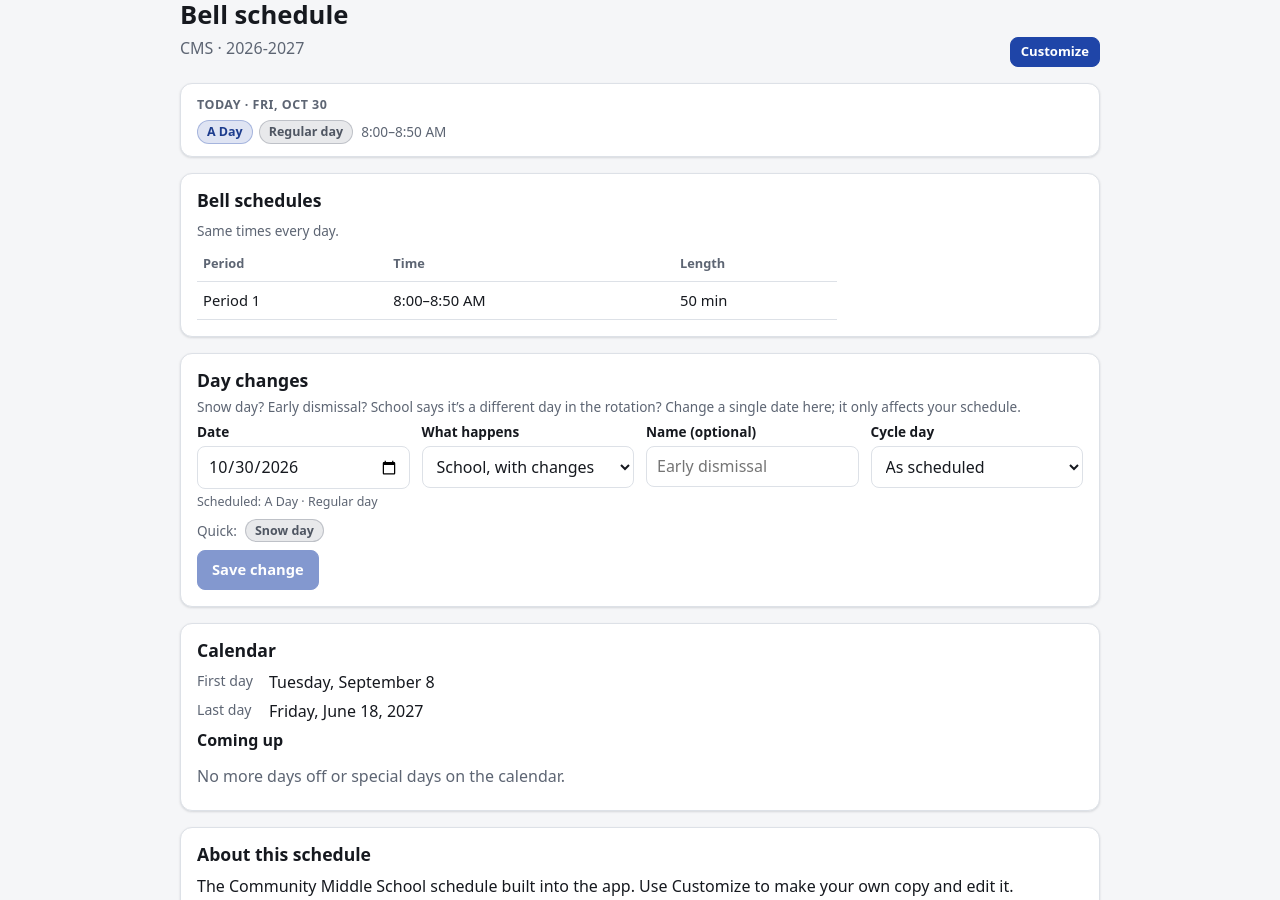
Test: SchedulePage › asks before replacing a custom schedule made for another school
Later steps or results of the test are not shown.
Click the button "Customize": (1055, 52) [1010,37,1100,67]
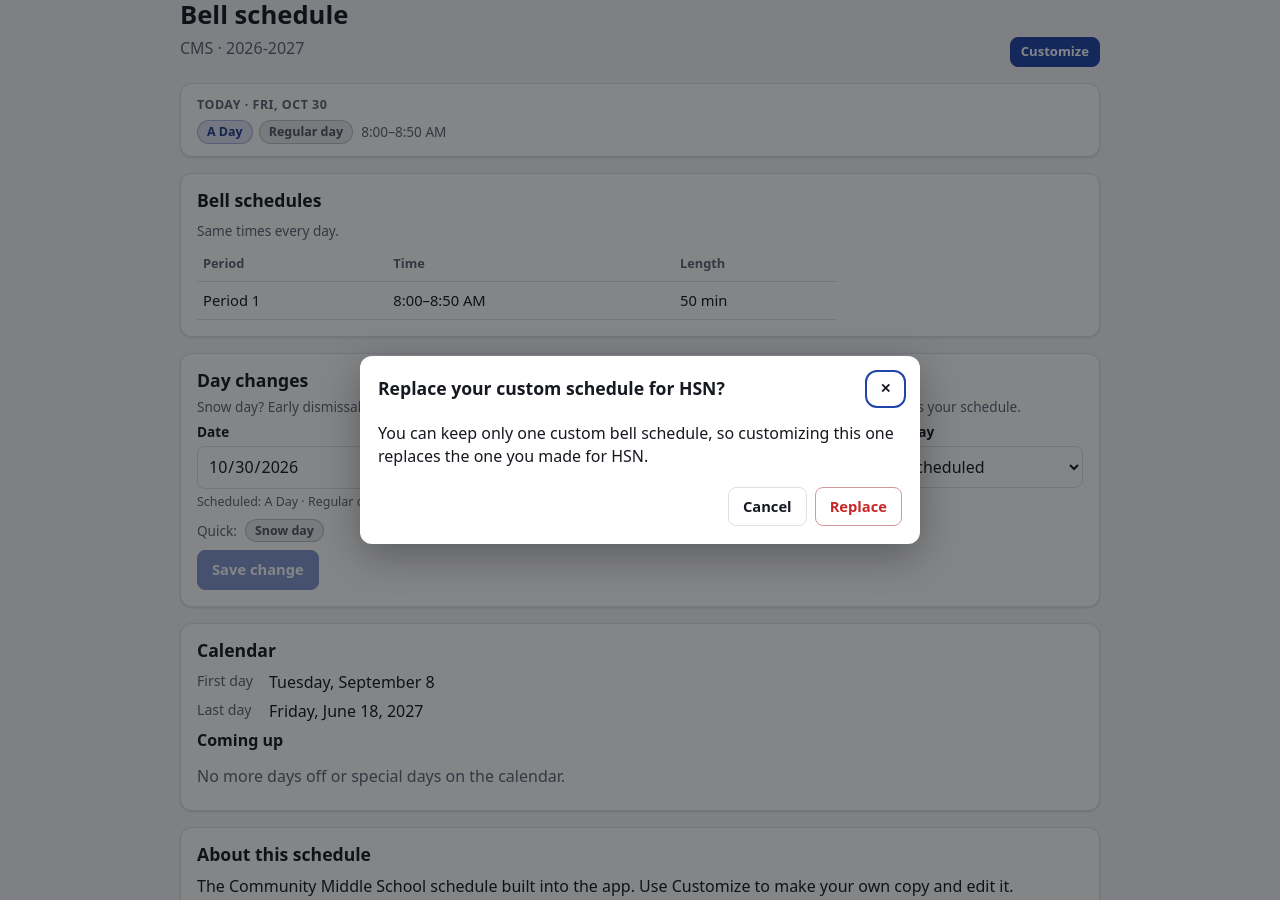
Now the heading "Replace your custom schedule for HSN?" is shown, box [378,378,725,399]
